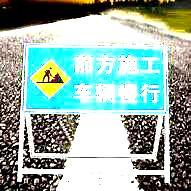sign: (23, 44, 166, 111)
